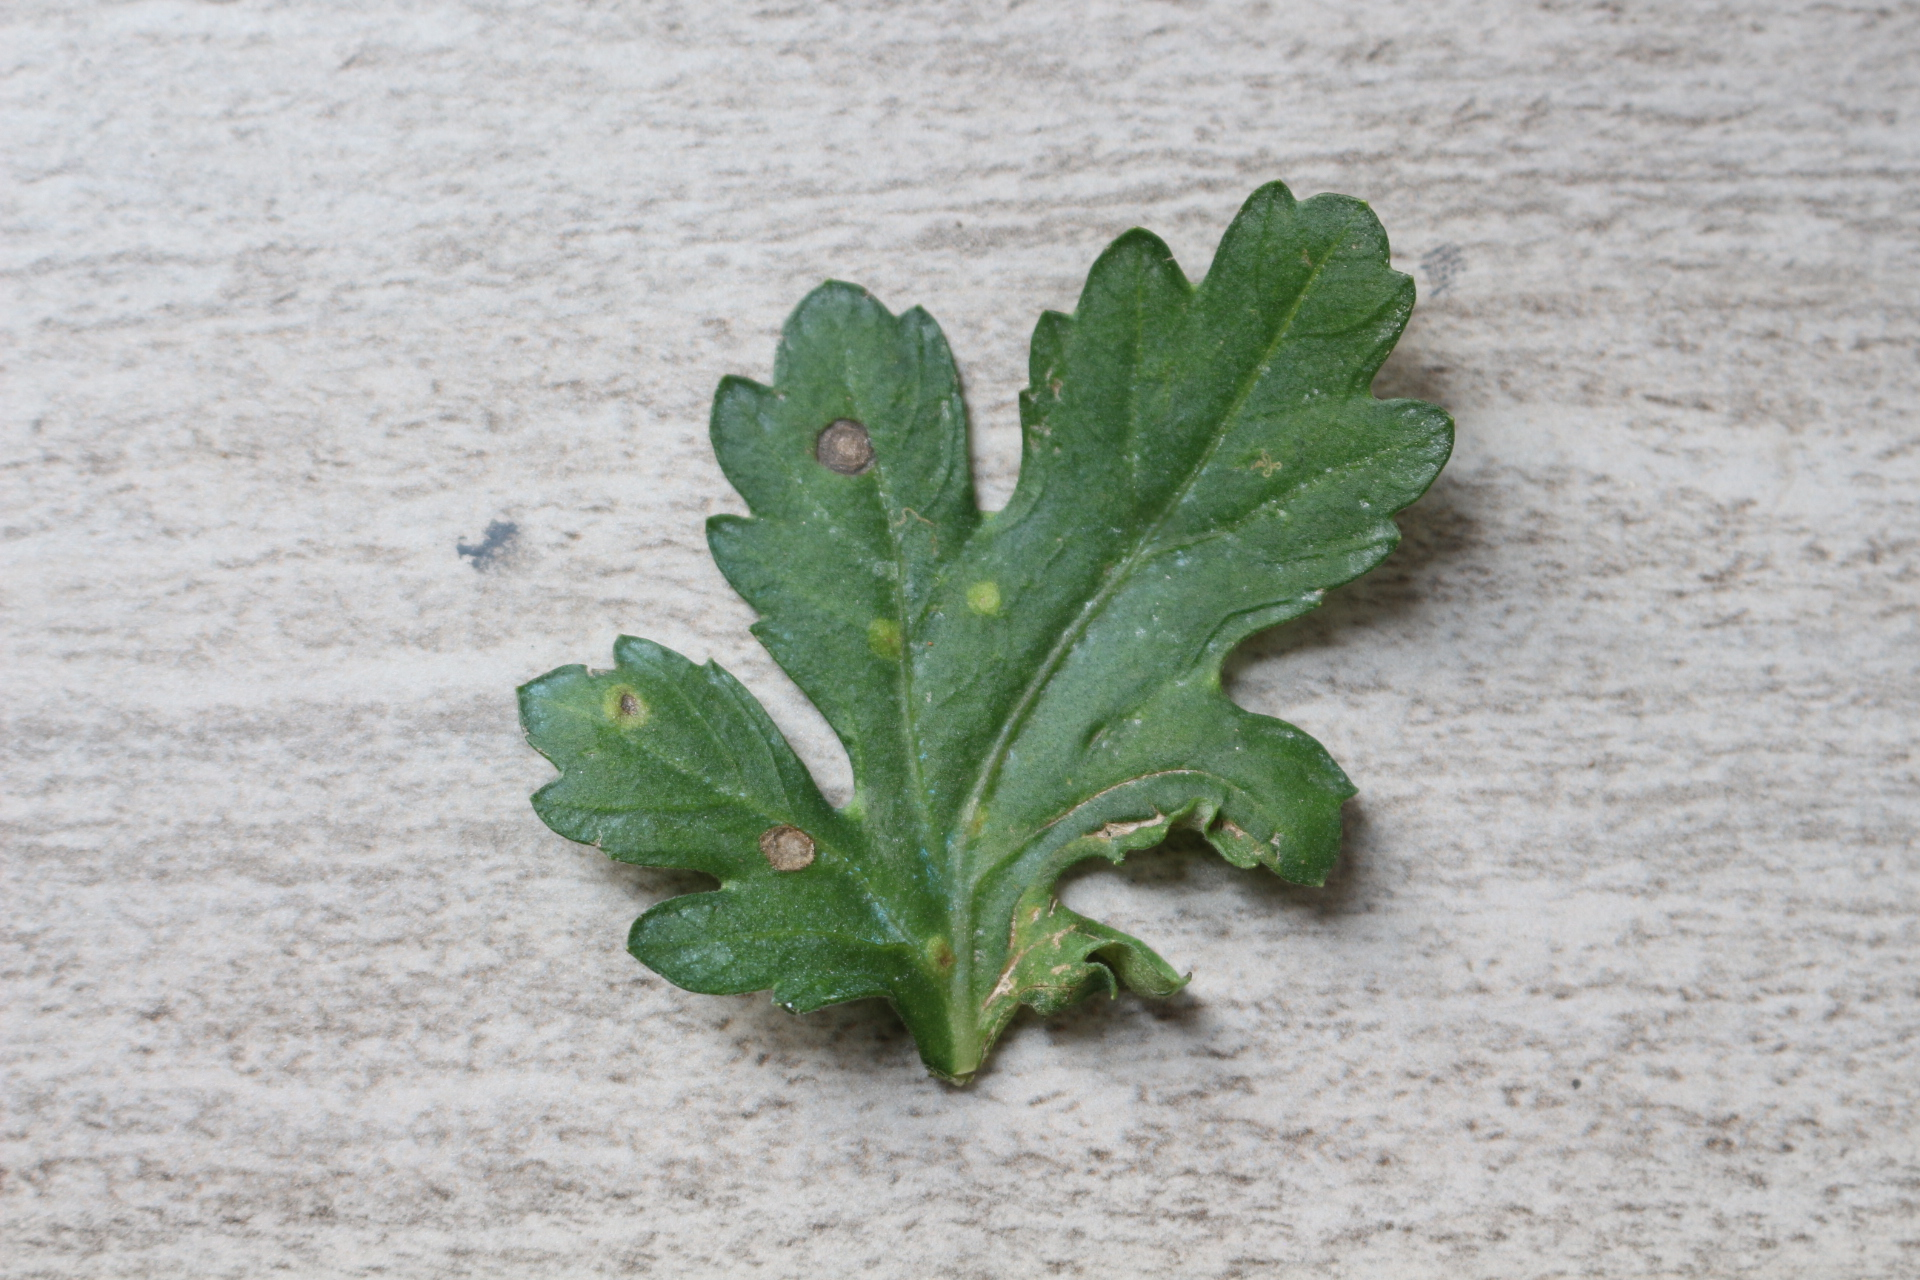namden: (809, 413, 879, 481), (753, 821, 826, 874), (609, 689, 649, 723)
namsung: (864, 614, 917, 673), (959, 579, 1009, 620)
